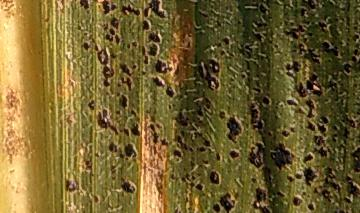tarspot: (266, 140, 295, 172), (195, 59, 222, 93), (246, 101, 266, 136), (95, 107, 118, 137), (225, 113, 246, 145), (246, 140, 267, 170), (304, 71, 324, 97), (142, 1, 169, 19), (302, 44, 322, 66), (218, 191, 236, 213), (320, 39, 340, 58), (234, 39, 253, 59), (302, 165, 318, 188), (119, 3, 142, 19), (153, 58, 174, 75), (171, 133, 190, 151), (291, 82, 311, 99), (322, 176, 342, 193), (63, 176, 81, 194), (173, 107, 189, 127), (96, 44, 110, 66), (350, 145, 360, 175), (249, 28, 269, 43), (253, 185, 268, 205), (148, 122, 161, 145), (250, 199, 271, 213), (284, 59, 302, 75), (119, 179, 137, 195), (281, 26, 301, 40), (304, 97, 317, 118), (344, 181, 360, 197), (205, 59, 221, 75), (146, 29, 163, 44), (100, 63, 115, 80), (122, 142, 137, 159), (343, 112, 357, 130), (150, 74, 166, 89), (118, 61, 133, 77), (146, 41, 160, 58), (120, 74, 134, 91), (129, 119, 141, 138), (289, 194, 305, 208), (312, 145, 328, 159), (208, 169, 221, 186), (322, 164, 337, 178), (301, 151, 316, 165), (202, 90, 212, 110), (251, 18, 269, 29), (316, 20, 329, 35), (283, 71, 299, 83), (164, 82, 175, 99), (117, 93, 128, 110), (315, 122, 328, 136), (304, 118, 317, 132), (108, 15, 121, 29), (192, 118, 208, 129), (241, 1, 260, 10), (284, 98, 301, 108), (227, 148, 240, 161), (219, 35, 232, 48), (322, 189, 334, 203), (170, 147, 184, 159), (140, 18, 152, 32), (258, 2, 269, 17), (176, 80, 187, 95), (101, 1, 112, 16), (325, 81, 339, 92), (194, 8, 209, 18), (341, 194, 353, 206), (296, 6, 308, 18), (225, 64, 237, 76), (90, 36, 99, 52), (306, 200, 317, 213), (307, 1, 320, 12), (126, 105, 137, 118), (107, 141, 118, 154), (342, 61, 352, 75), (243, 58, 253, 72), (78, 1, 93, 10), (327, 70, 339, 81), (260, 95, 271, 107), (103, 31, 114, 43), (330, 27, 340, 40), (195, 104, 205, 117), (90, 191, 100, 204), (293, 170, 304, 181), (285, 173, 296, 184), (194, 181, 205, 192), (81, 41, 92, 52), (211, 201, 221, 213), (216, 108, 226, 120), (86, 99, 96, 111), (211, 40, 224, 49), (172, 63, 181, 76), (113, 33, 122, 46), (292, 107, 306, 115), (323, 13, 333, 24), (318, 114, 329, 124), (189, 160, 199, 171), (195, 144, 206, 154), (99, 22, 110, 32), (101, 78, 111, 89), (332, 191, 341, 203), (201, 139, 213, 148), (341, 130, 351, 140), (249, 175, 259, 185), (159, 137, 169, 147), (299, 18, 310, 27), (280, 130, 291, 139), (276, 189, 287, 198), (226, 49, 237, 58), (353, 1, 360, 15), (283, 2, 295, 10), (252, 78, 261, 88), (193, 129, 203, 138), (148, 113, 157, 123), (109, 2, 118, 12), (298, 45, 306, 56), (213, 151, 221, 162), (201, 44, 212, 52), (210, 8, 221, 16), (138, 44, 146, 55), (185, 171, 192, 183), (288, 125, 297, 134), (261, 166, 270, 175), (213, 18, 222, 27), (130, 40, 139, 49), (109, 51, 118, 60), (112, 107, 121, 116), (108, 27, 116, 37), (122, 126, 130, 136), (268, 28, 274, 41), (336, 143, 347, 150), (251, 86, 262, 93), (93, 149, 100, 160), (351, 55, 359, 64), (344, 173, 352, 182), (283, 11, 292, 19), (298, 25, 306, 34), (290, 46, 298, 55), (244, 94, 252, 103), (202, 157, 210, 166), (169, 172, 177, 181), (155, 121, 163, 130), (152, 144, 158, 156), (331, 132, 338, 142), (346, 13, 351, 27), (236, 4, 243, 14), (219, 48, 226, 58), (143, 107, 153, 114), (272, 49, 283, 55), (185, 39, 191, 50), (337, 79, 345, 87), (272, 114, 280, 122), (336, 119, 343, 128), (330, 124, 339, 131), (343, 204, 350, 213), (322, 3, 331, 10), (326, 145, 333, 154), (265, 54, 272, 63), (234, 190, 241, 199), (239, 71, 246, 80), (323, 58, 333, 64), (224, 55, 234, 61), (157, 151, 163, 161), (143, 54, 148, 66), (352, 48, 360, 55), (339, 49, 346, 57), (312, 186, 319, 194), (282, 19, 290, 26), (301, 37, 309, 44), (297, 134, 304, 142), (176, 92, 183, 100), (231, 71, 239, 78), (213, 52, 220, 60), (225, 19, 232, 27), (130, 63, 138, 70), (117, 147, 124, 155), (121, 40, 126, 51), (184, 195, 190, 204), (188, 132, 194, 141), (274, 1, 284, 6), (89, 14, 94, 24), (353, 33, 360, 40), (340, 6, 347, 13), (289, 20, 296, 27), (273, 22, 280, 29), (253, 41, 260, 48), (235, 18, 242, 25), (246, 75, 253, 82), (239, 118, 246, 125), (180, 176, 187, 183), (187, 146, 194, 153), (172, 206, 179, 213), (207, 110, 214, 117), (166, 103, 173, 110), (131, 157, 138, 164), (118, 175, 125, 182), (327, 16, 333, 24), (223, 5, 229, 13), (190, 108, 196, 116), (187, 205, 195, 211), (118, 152, 124, 160), (85, 8, 91, 16), (354, 41, 360, 48), (353, 101, 360, 107), (351, 206, 357, 213), (335, 10, 341, 17), (338, 39, 345, 45), (307, 31, 314, 37), (352, 74, 359, 80), (273, 42, 279, 49), (302, 74, 308, 81), (274, 68, 280, 75), (290, 119, 297, 125), (209, 191, 215, 198), (245, 70, 252, 76), (199, 164, 206, 170), (188, 120, 194, 127), (183, 90, 189, 97), (229, 77, 236, 83), (140, 70, 147, 76), (129, 31, 136, 37), (116, 81, 122, 88), (77, 24, 83, 31), (333, 4, 341, 9), (273, 100, 281, 105), (296, 155, 301, 163), (267, 129, 272, 137), (270, 110, 278, 115), (259, 54, 264, 62), (249, 133, 254, 141), (205, 50, 213, 55), (208, 2, 216, 7), (126, 42, 131, 50), (103, 91, 111, 96), (352, 25, 358, 31), (301, 190, 307, 196), (322, 132, 328, 138), (266, 90, 272, 96), (249, 39, 255, 45), (196, 171, 202, 177), (191, 175, 197, 181), (182, 166, 188, 172), (83, 31, 89, 37), (118, 192, 124, 198), (355, 110, 360, 117), (333, 17, 340, 22), (278, 20, 283, 27), (267, 39, 274, 44), (333, 146, 338, 153), (203, 205, 210, 210), (96, 2, 101, 9), (109, 164, 116, 169), (84, 159, 89, 166), (88, 165, 93, 172), (346, 37, 352, 42), (353, 83, 358, 89), (351, 91, 357, 96), (355, 96, 360, 102), (317, 185, 323, 190), (270, 97, 276, 102), (279, 111, 284, 117), (252, 55, 257, 61), (175, 157, 180, 163), (194, 115, 200, 120), (171, 103, 177, 108), (194, 39, 199, 45), (128, 20, 133, 26), (116, 90, 121, 96), (118, 128, 123, 134), (127, 161, 132, 167), (110, 170, 116, 175), (222, 154, 225, 163), (318, 192, 323, 197), (283, 52, 288, 57), (269, 15, 274, 20), (207, 147, 212, 152), (190, 156, 195, 161), (111, 175, 116, 180), (334, 204, 340, 208), (306, 194, 312, 198), (341, 16, 345, 22), (311, 19, 315, 25), (206, 130, 210, 136), (179, 102, 185, 106), (224, 15, 230, 19), (124, 157, 130, 161), (355, 118, 359, 123), (273, 105, 278, 109), (321, 164, 326, 168), (266, 4, 271, 8), (254, 49, 258, 54), (193, 44, 198, 48), (215, 72, 219, 77), (279, 103, 283, 107), (230, 19, 233, 24)
